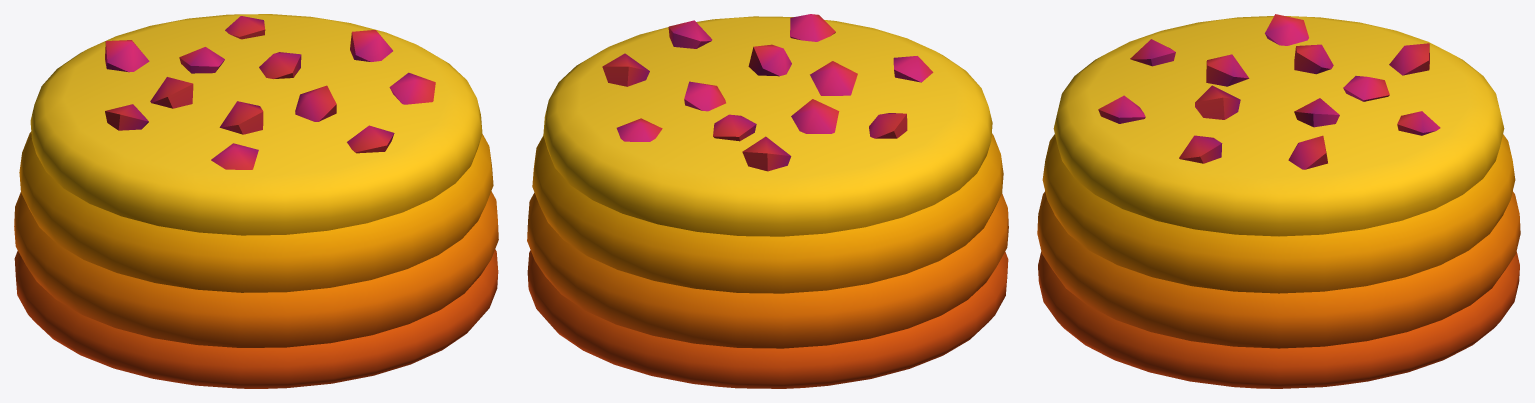
File: cake_005.fbx
The picture shows the model from 3 angles, left to right: view 1: azimuth 30°, elevation 25°; view 2: azimuth 150°, elevation 25°; view 3: azimuth 270°, elevation 25°; orthographic projection.
Parts seen in each view (by area): view 1: cake_005; view 2: cake_005; view 3: cake_005.
Part boxes in pixels (bbox=[...]): cake_005: bbox=[14, 14, 498, 388]; cake_005: bbox=[527, 14, 1008, 388]; cake_005: bbox=[1037, 14, 1520, 388].
Size of the model in its own units: 22.25 by 22.25 by 11.27.
